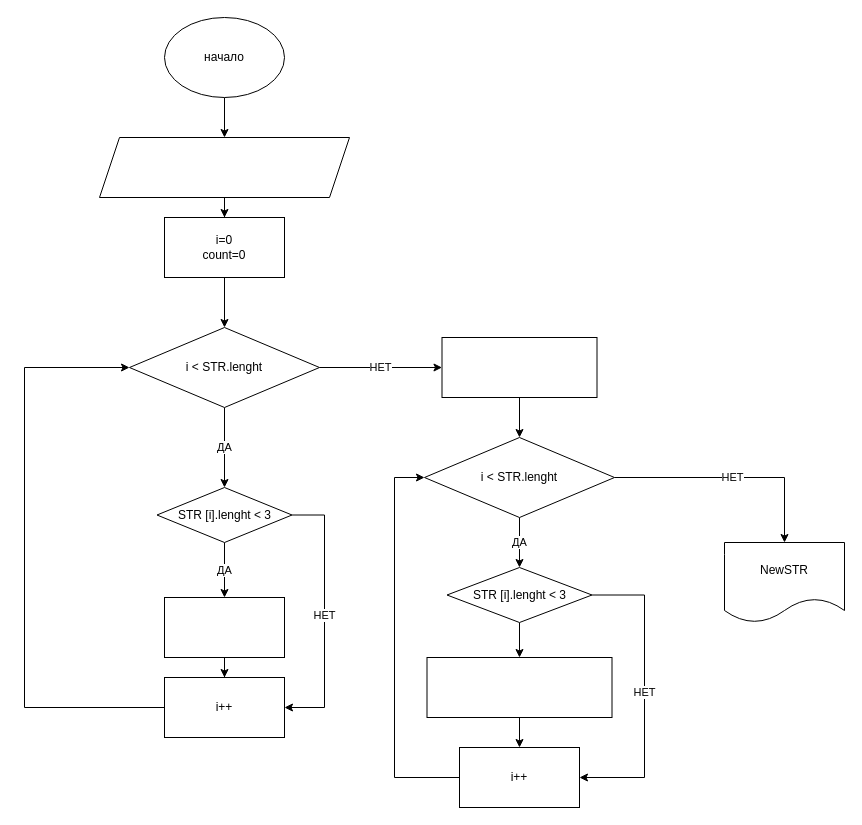
Image size: 862x825. Some labels were removed from this diagram. The shapes that lost their labels are listed below. From the top down, each one's centre as x and y in pixels, then its label:
At (x=224, y=167): "Массив строк STR = {1234, qwe, rewrt, fdsef}".
At (x=519, y=367): "i=0 j=0 Массив строк NewSTR длинной count".
At (x=224, y=627): "count++".
At (x=519, y=687): "NewSTR [ j ] = STR [ i ] j++".
